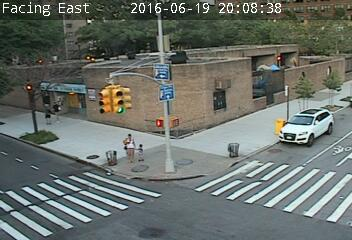neg: (223, 137, 241, 161), (288, 117, 304, 138), (42, 41, 58, 61), (194, 187, 209, 207), (239, 179, 254, 199), (124, 43, 138, 62), (127, 76, 141, 94), (40, 137, 54, 155), (62, 190, 76, 208), (255, 34, 268, 52), (155, 36, 168, 54), (281, 153, 294, 171), (318, 157, 331, 175), (303, 76, 316, 93), (141, 182, 154, 199), (222, 73, 234, 90), (95, 196, 107, 213), (101, 83, 113, 99), (175, 148, 187, 164), (183, 36, 195, 51), (212, 95, 224, 110), (33, 173, 45, 188), (104, 147, 115, 163), (160, 80, 171, 95), (238, 74, 249, 89), (88, 32, 99, 47), (192, 73, 203, 87), (224, 32, 235, 46), (160, 115, 171, 129), (271, 69, 281, 83), (86, 149, 95, 161), (291, 76, 299, 86)
pos: (117, 130, 140, 161), (36, 101, 54, 124), (49, 102, 64, 122), (135, 144, 148, 160)
